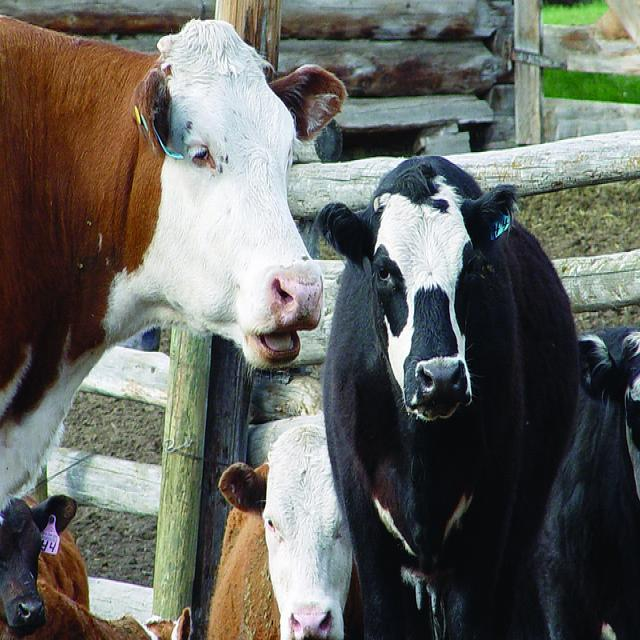cow: (0, 12, 343, 507), (312, 149, 587, 631), (201, 421, 351, 631), (546, 323, 637, 631), (0, 497, 205, 628)
